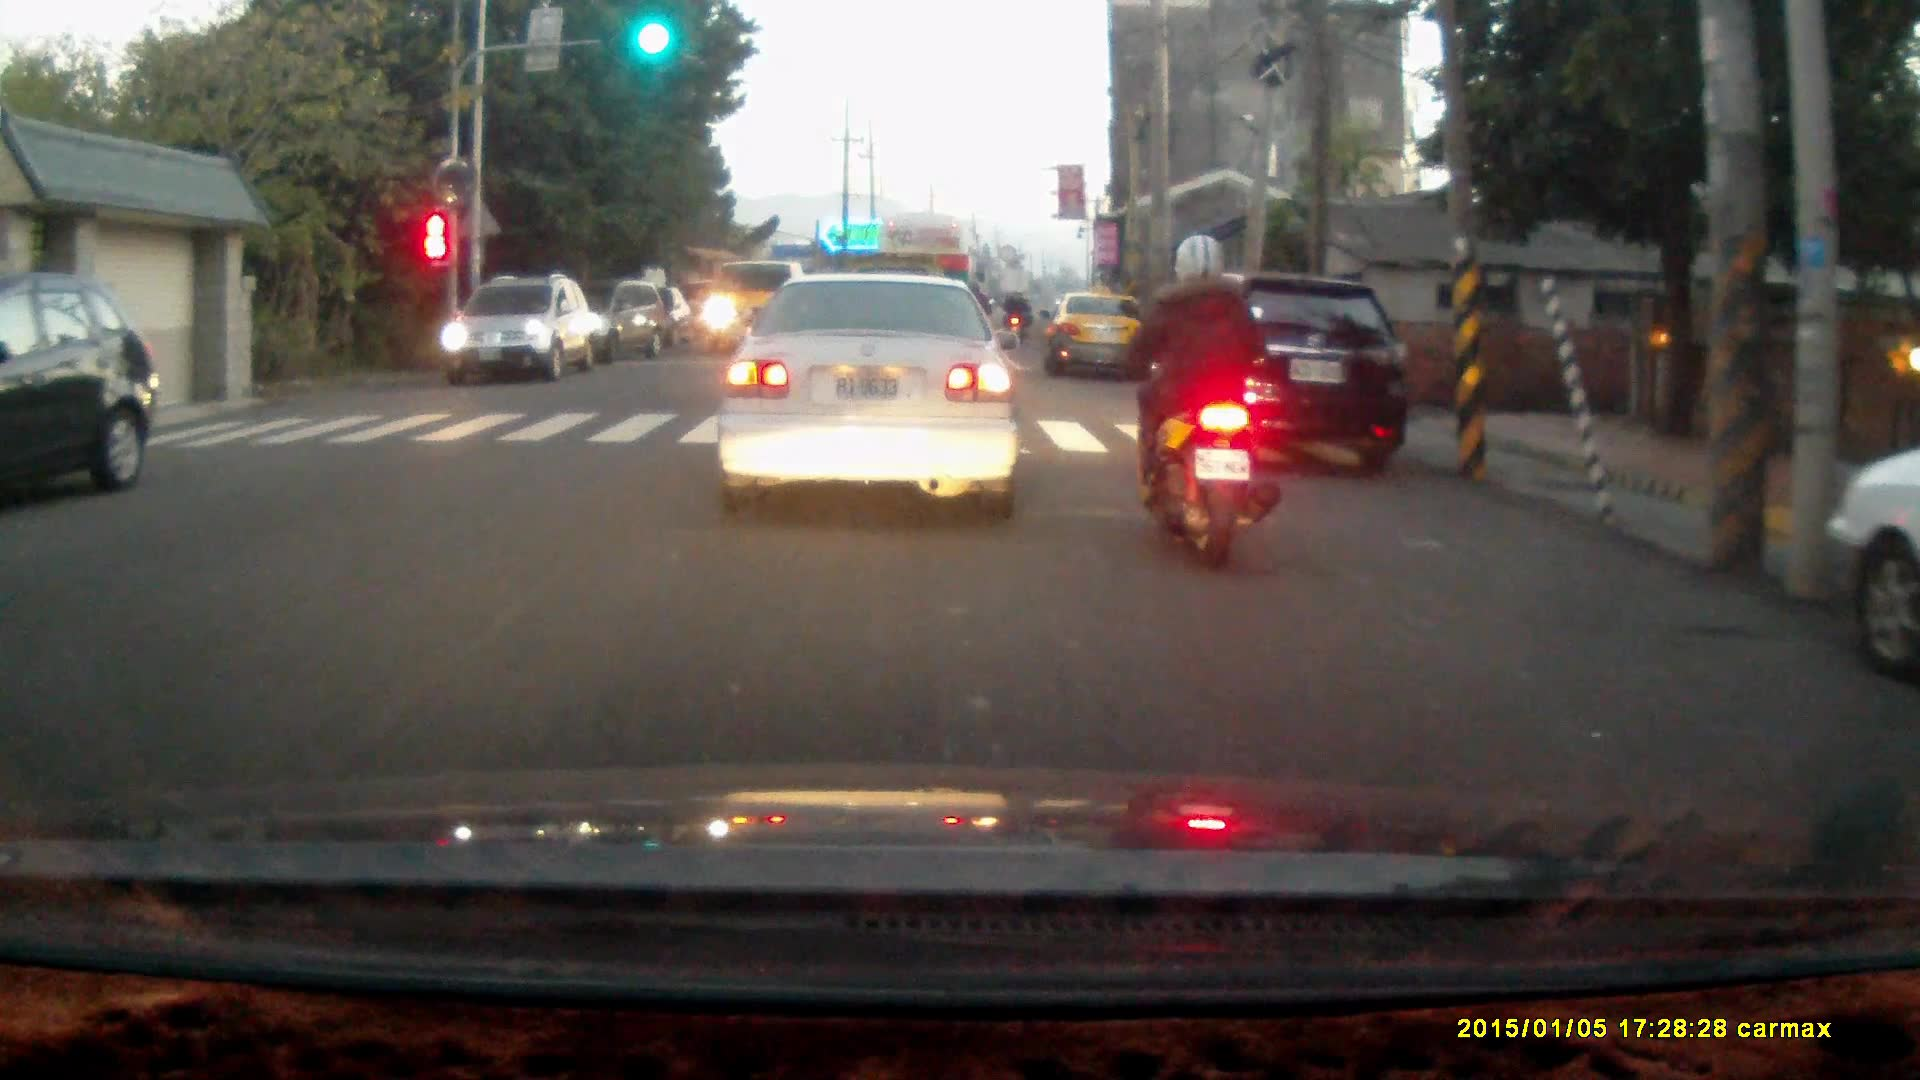rider: (1123, 230, 1282, 569)
vehicle: (712, 269, 1021, 525), (1139, 277, 1417, 477), (1, 271, 164, 498), (1810, 432, 1920, 687), (442, 279, 598, 393), (876, 213, 983, 356), (548, 278, 671, 369), (1044, 292, 1151, 382)
